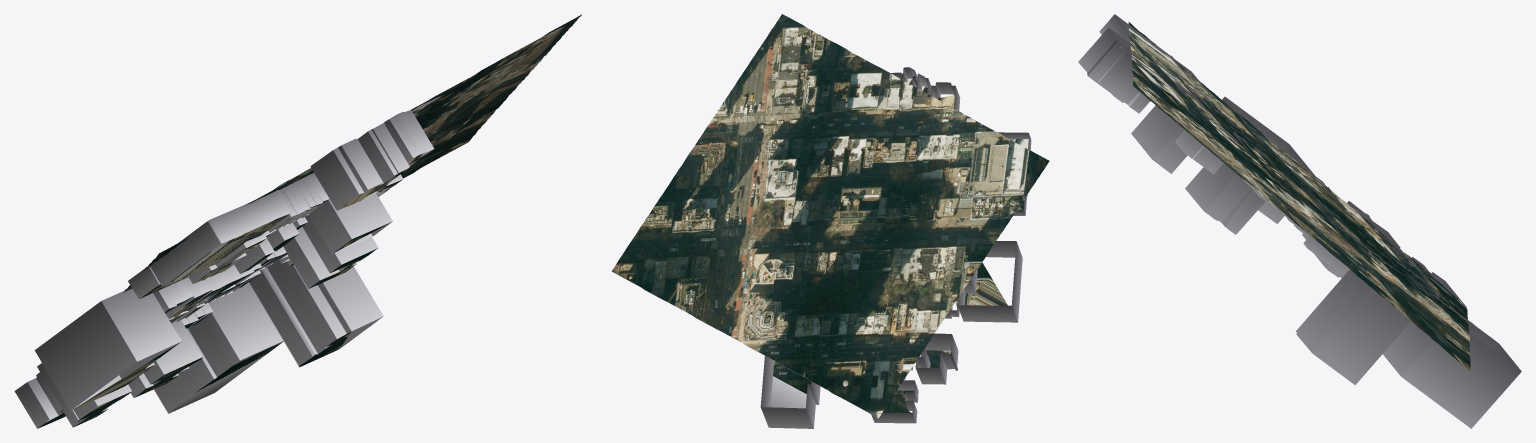
3 views of the same model, side by side, from view 1: azimuth 30°, elevation 25°; view 2: azimuth 150°, elevation 25°; view 3: azimuth 270°, elevation 25° (orthographic). The views are drawn at different scales.
Bounding box in the file's own units: 280 × 238 × 230.
Materials: 1 (1 with a texture image).
